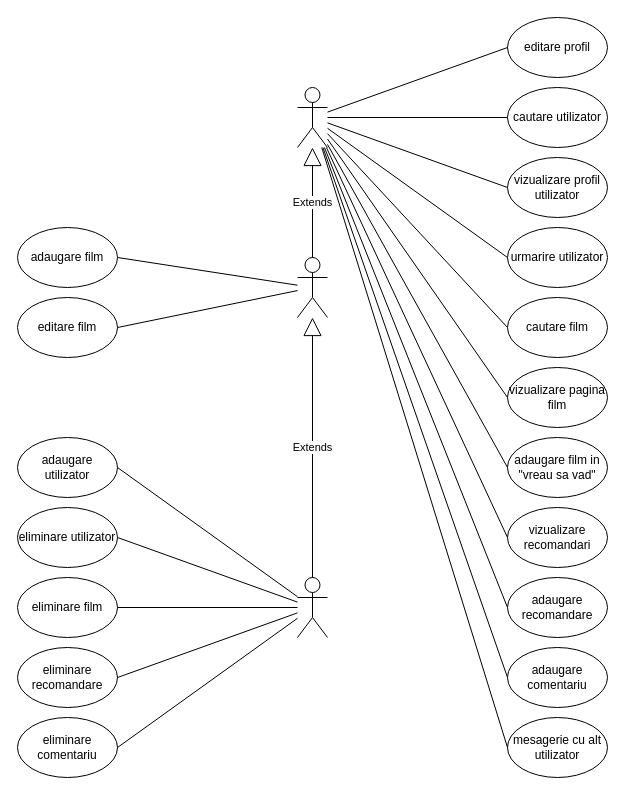
This 625x795 diagram has some shape labels left out. Each missing label, with the centre of its shape:
Administrator: (312,607)
Propunator: (312,287)
Utilizator: (312,117)
